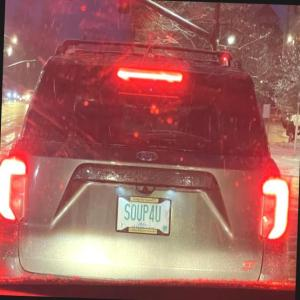Plate: (115, 194, 171, 237)
